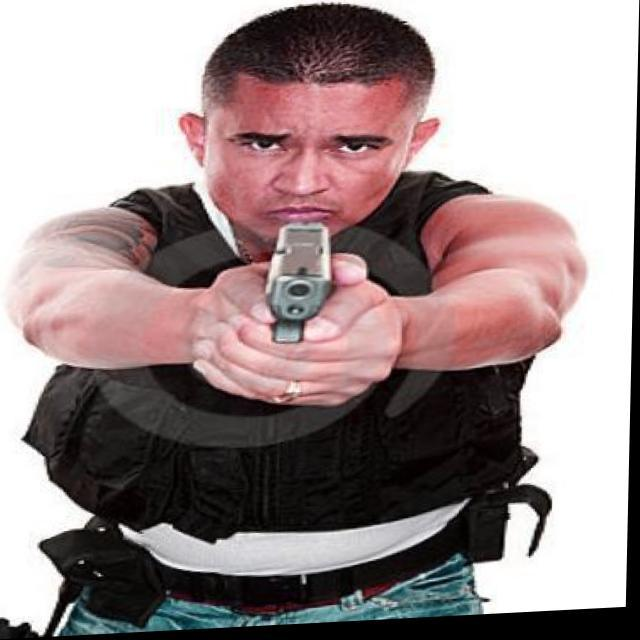weapon: (239, 215, 370, 410)
